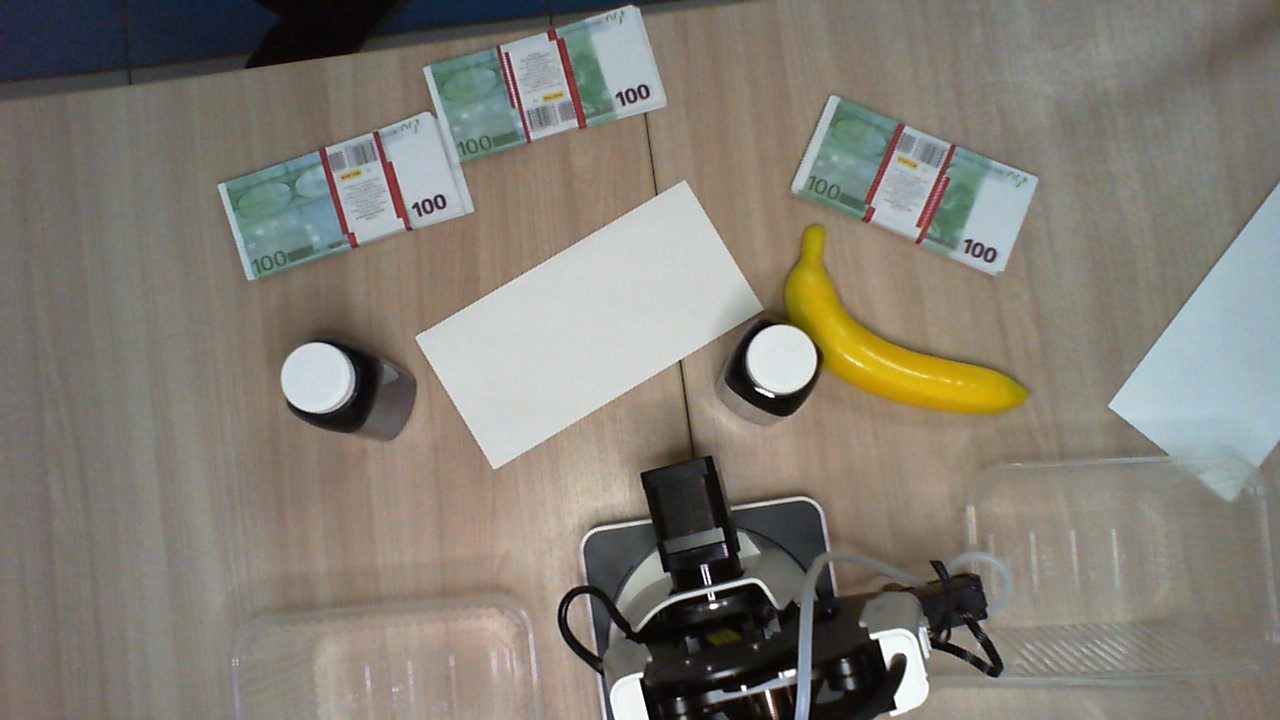banana: (783, 225, 1031, 416)
bottle: (724, 317, 824, 426), (279, 338, 378, 435)
convert: (416, 180, 766, 473), (1106, 184, 1280, 504)
money: (793, 92, 1037, 274), (217, 110, 472, 284), (423, 5, 669, 167)
